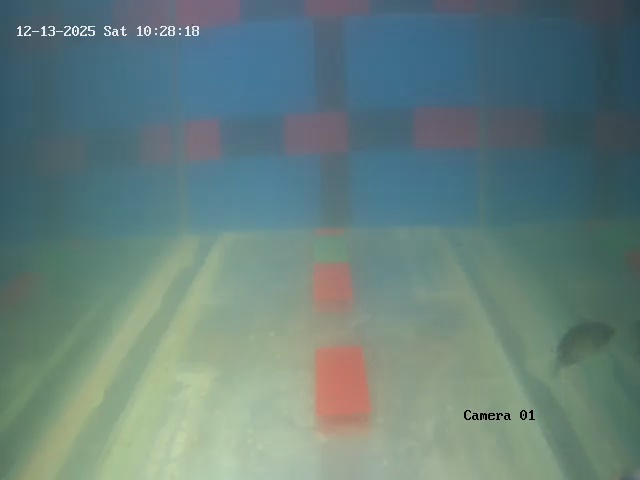fish: (552, 300, 613, 378)
